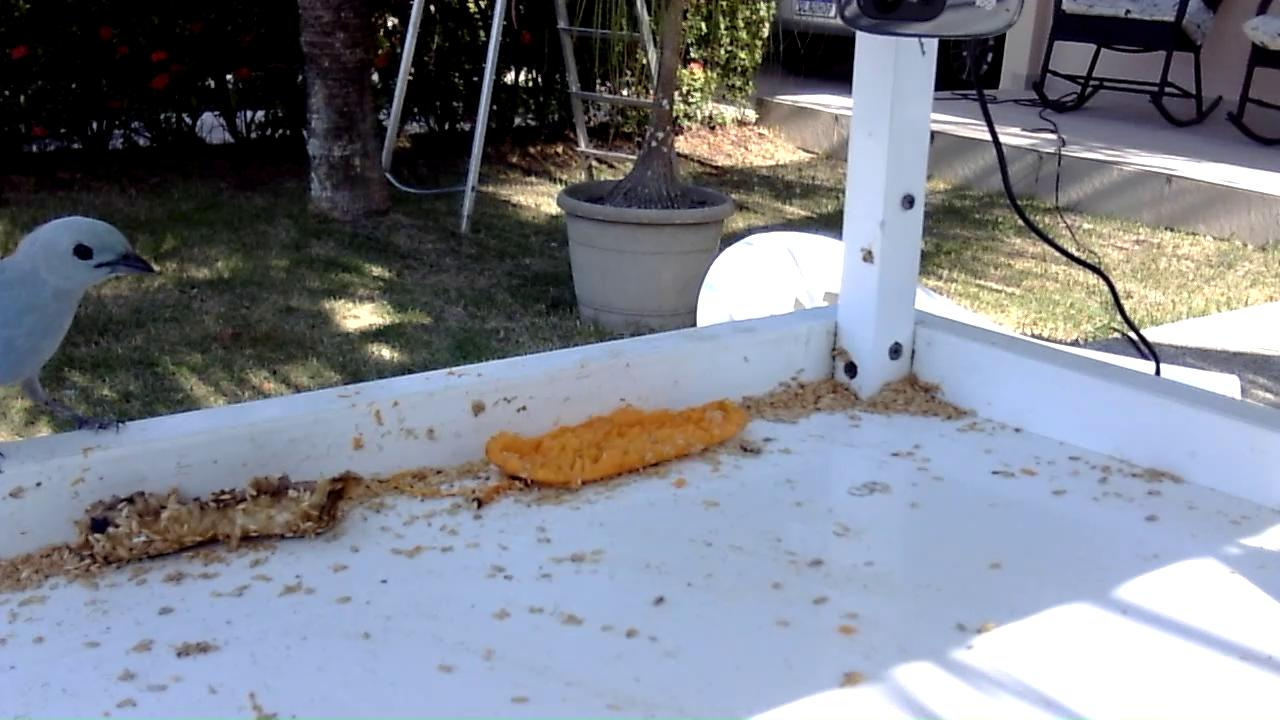sanhaco_da_amazonia: (1, 214, 158, 470)
